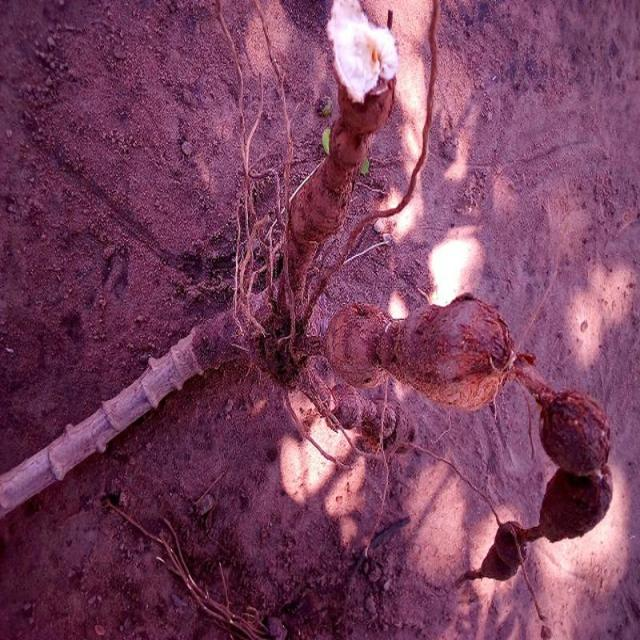cassava leaf: (325, 0, 398, 105)
